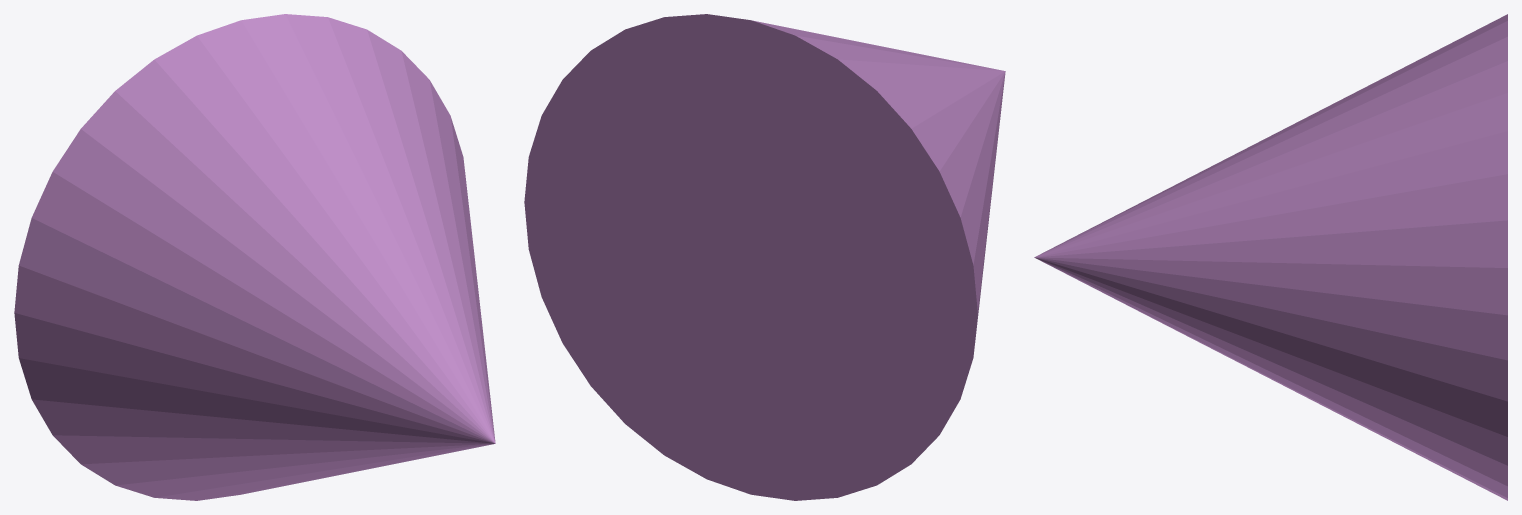
3 renders of one model, left to right at view 1: azimuth 30°, elevation 25°; view 2: azimuth 150°, elevation 25°; view 3: azimuth 270°, elevation 25°, orthographic. The views are drawn at different scales.
Visible parts, largest first — view 1: world; view 2: world; view 3: world.
Part boxes in pixels (x1,y1,x2,y2): world: [14, 14, 495, 500]; world: [524, 14, 1005, 500]; world: [1034, 14, 1507, 500].
Size of the model in its own units: 0.36 by 0.36 by 0.35.
